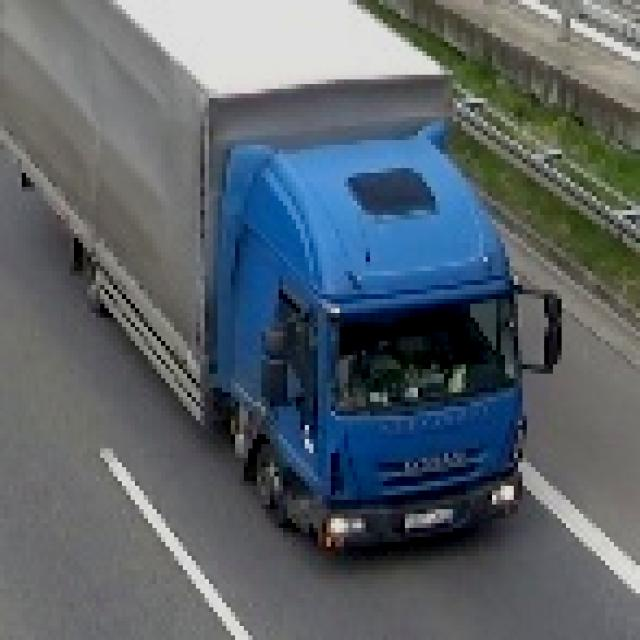truck: (1, 1, 558, 557)
